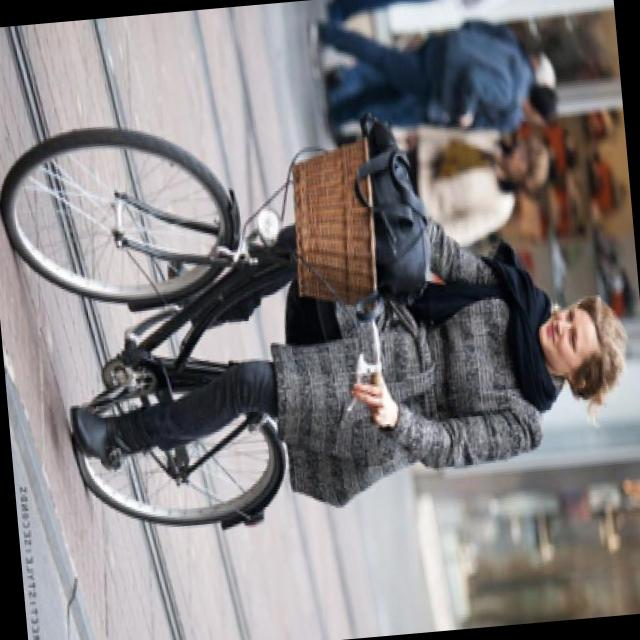bareface: (528, 273, 632, 413)
